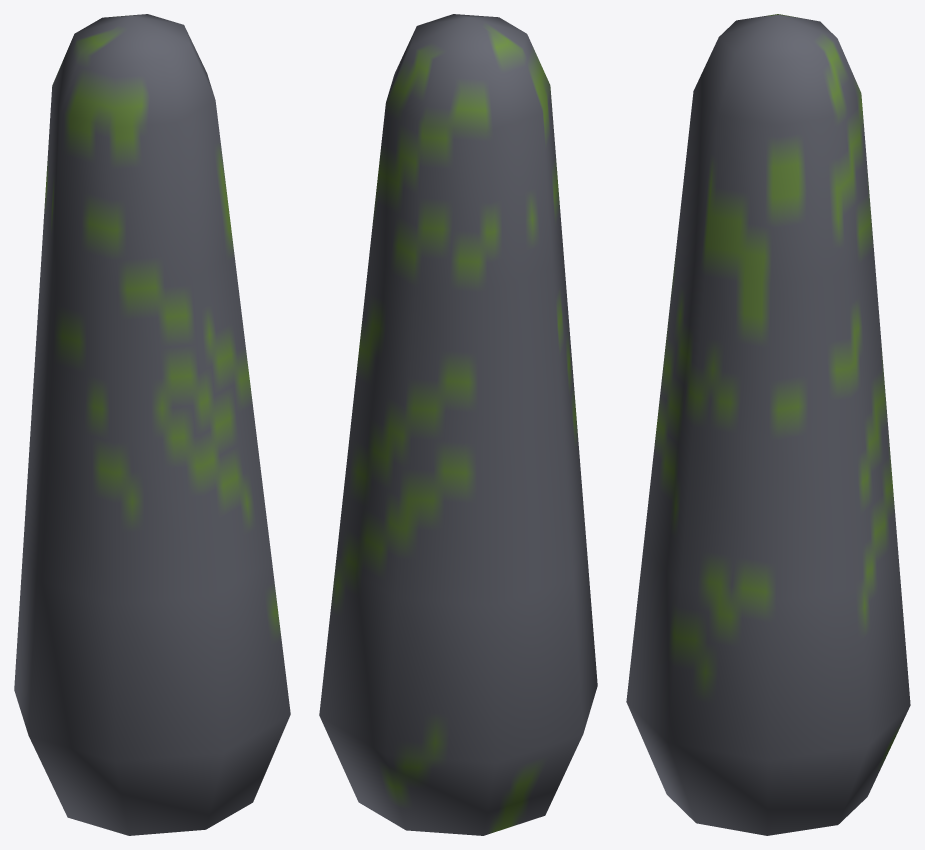
The model's file is prop_menhirundefined_aa82.glb.
3 views of the same model, side by side, from view 1: azimuth 30°, elevation 25°; view 2: azimuth 150°, elevation 25°; view 3: azimuth 270°, elevation 25° (orthographic).
Parts seen in each view (by area): view 1: prop_menhirundefined_aa82; view 2: prop_menhirundefined_aa82; view 3: prop_menhirundefined_aa82.
Part boxes in pixels (bbox=[...]): prop_menhirundefined_aa82: bbox=[14, 14, 290, 835]; prop_menhirundefined_aa82: bbox=[319, 14, 597, 835]; prop_menhirundefined_aa82: bbox=[626, 14, 910, 835].
Size of the model in its own units: 0.3889 by 1.22 by 0.389.
Materials: 1 (1 with a texture image).
